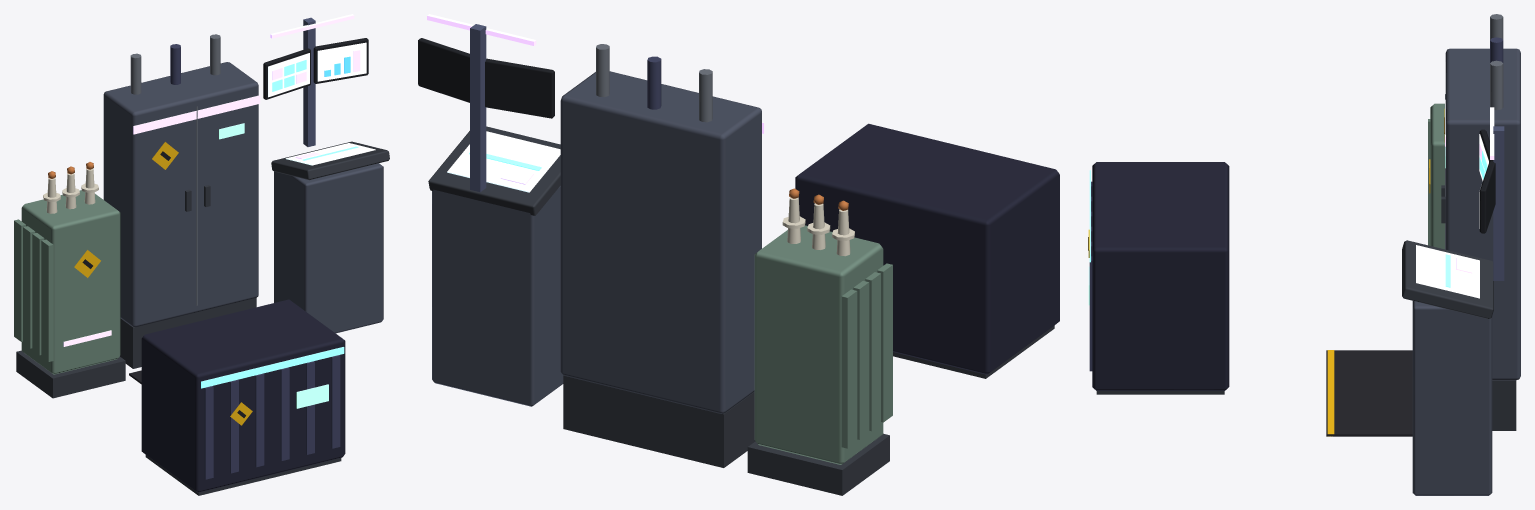
File: station_intake_3.glb
3 views of the same model, side by side, from view 1: azimuth 30°, elevation 25°; view 2: azimuth 150°, elevation 25°; view 3: azimuth 270°, elevation 25° (orthographic). The views are drawn at different scales.
Visible parts, largest first — view 1: station_intake_3; view 2: station_intake_3; view 3: station_intake_3.
Boxes of the visible parts, x1,y1,x2,y2 form: station_intake_3: (14,14,389,495); station_intake_3: (418,14,1059,495); station_intake_3: (1088,14,1520,495).
Size of the model in its own units: 2.16 by 1.77 by 1.96.
